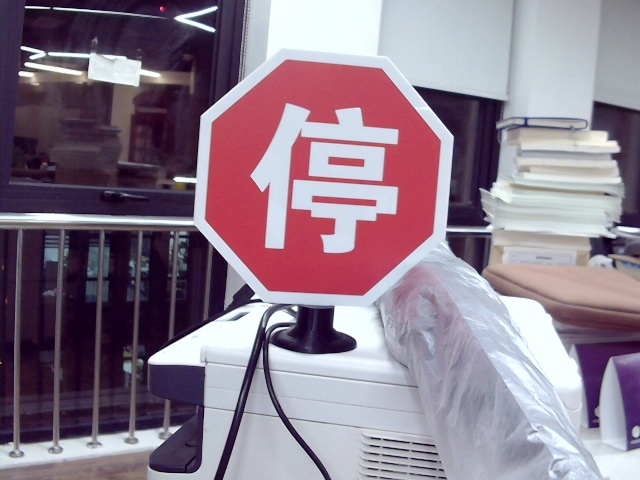stop: (247, 95, 400, 255)
